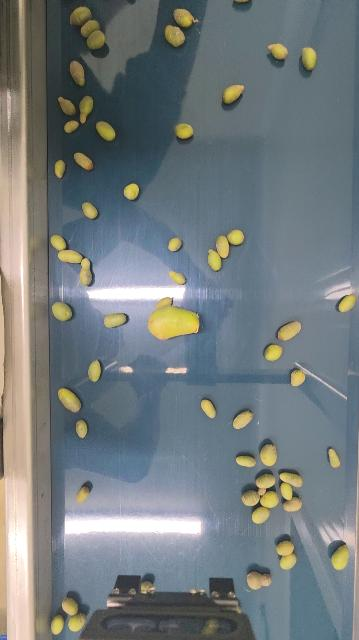Baby Potato: (146, 303, 202, 341), (57, 387, 82, 413), (277, 319, 303, 342), (232, 407, 256, 431), (163, 24, 187, 48), (68, 57, 87, 87), (331, 543, 351, 571), (246, 570, 274, 590), (222, 83, 247, 105), (172, 7, 197, 28), (78, 95, 95, 124), (68, 5, 92, 25), (260, 442, 279, 467), (301, 45, 319, 71), (95, 120, 116, 142), (242, 488, 266, 507), (280, 470, 305, 488), (52, 300, 73, 321), (86, 29, 107, 50), (73, 150, 94, 171), (103, 312, 128, 329), (57, 95, 77, 116), (79, 257, 93, 286), (215, 233, 231, 258), (339, 292, 358, 313), (251, 505, 272, 524), (260, 489, 281, 508), (268, 42, 290, 60), (57, 249, 83, 264), (207, 248, 223, 272), (265, 342, 284, 362), (68, 612, 87, 632), (174, 122, 195, 140), (201, 397, 218, 419), (79, 19, 101, 36), (255, 472, 277, 489), (276, 539, 296, 556), (88, 359, 102, 383), (283, 496, 304, 512), (236, 453, 258, 468), (227, 228, 245, 246), (290, 368, 307, 387), (279, 553, 298, 570), (62, 597, 79, 616), (82, 201, 98, 220), (280, 480, 296, 499), (168, 269, 187, 285), (50, 615, 64, 636), (75, 484, 90, 503), (75, 418, 88, 439), (329, 447, 342, 468), (50, 233, 66, 250), (124, 182, 139, 200), (53, 159, 66, 179), (64, 120, 80, 134), (156, 296, 174, 308), (168, 237, 182, 252), (232, 0, 255, 3)
